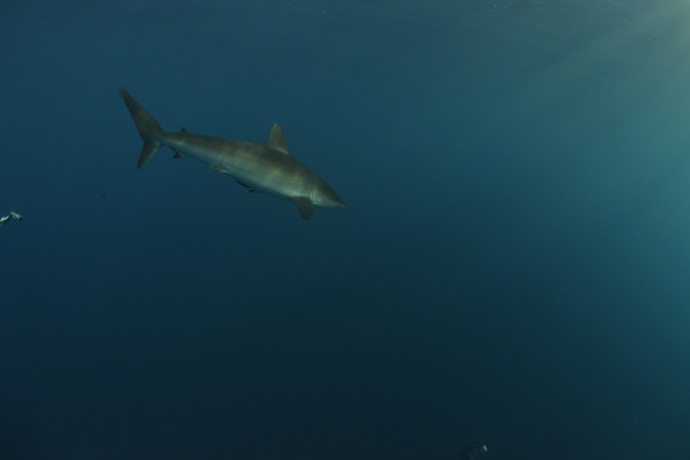Sedoso: (107, 70, 360, 233)
